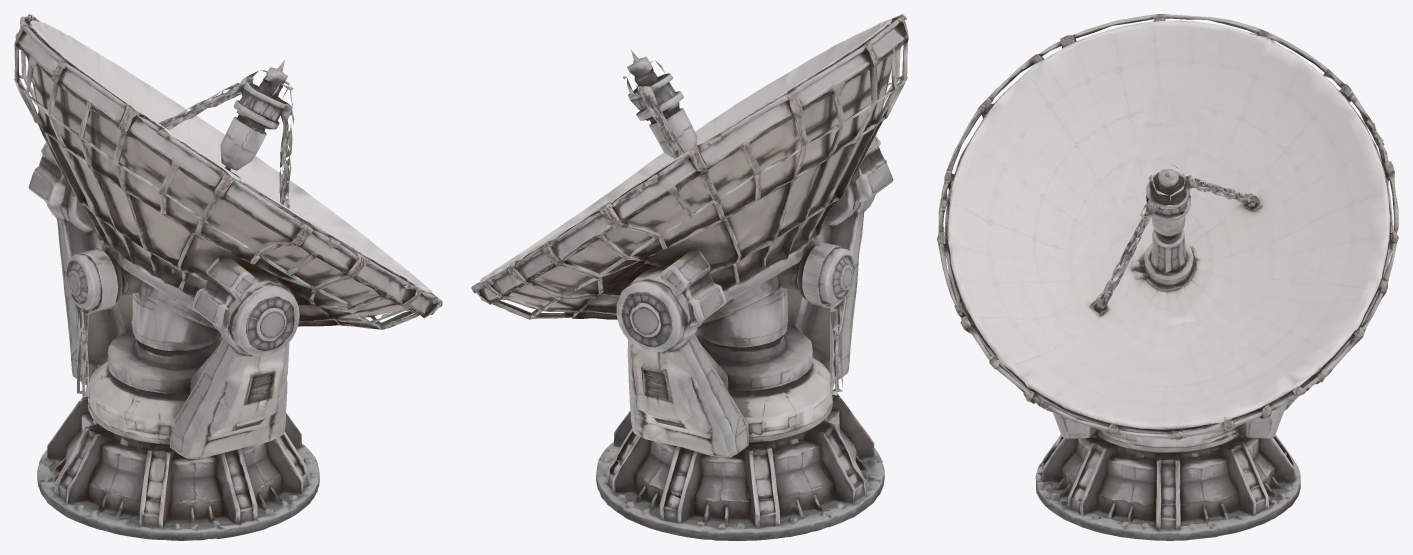
File: dishMount.glb
3 renders of one model, left to right at view 1: azimuth 30°, elevation 25°; view 2: azimuth 150°, elevation 25°; view 3: azimuth 270°, elevation 25°, orthographic. The views are drawn at different scales.
Parts seen in each view (by area): view 1: dishMount; view 2: dishMount; view 3: dishMount.
Boxes of the visible parts, x1,y1,x2,y2 form: dishMount: (14, 14, 442, 540); dishMount: (471, 14, 908, 540); dishMount: (937, 14, 1398, 540).
Size of the model in its own units: 26.9 by 32.94 by 33.
Materials: 1 (1 with a texture image).
